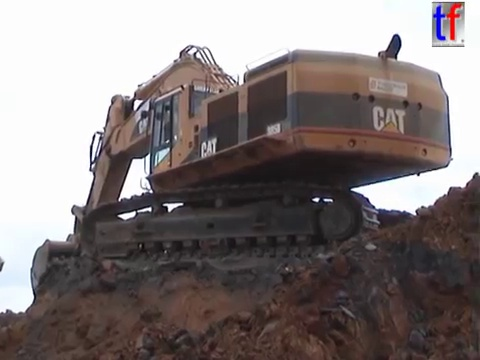excavator: (27, 30, 456, 299)
truck: (1, 256, 5, 271)
